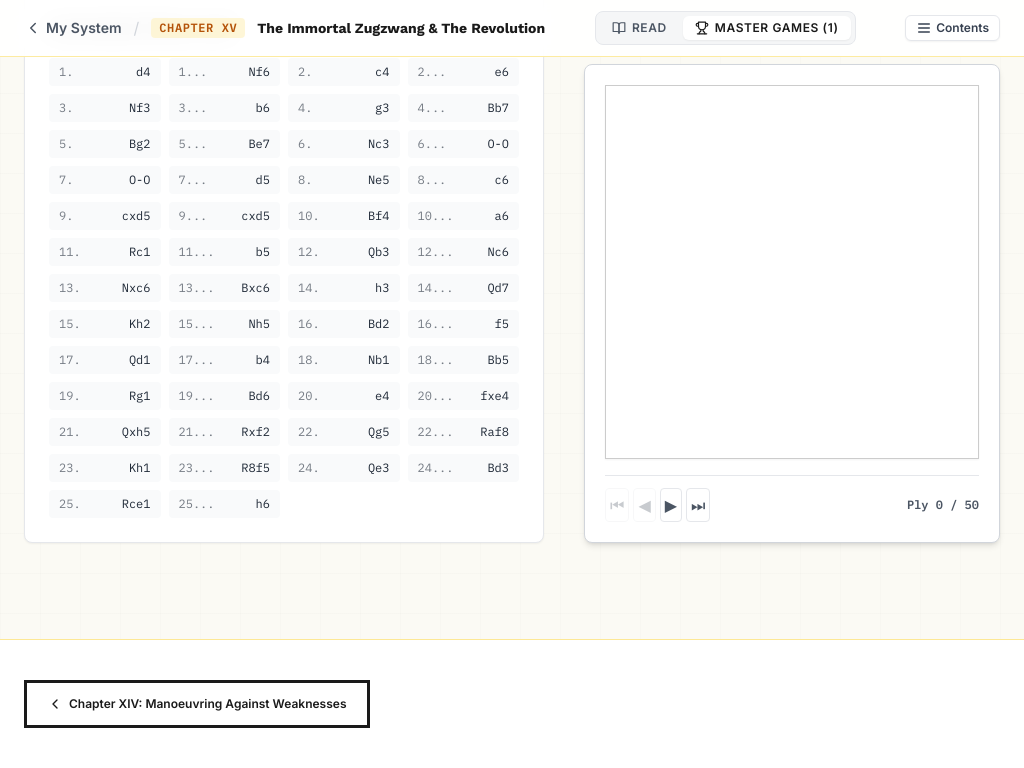
Test: MySystemReader › renders and steps through illustrative master games when present
(page scrolled)
Click on move 50 (h6)
Step 1. Click the button "25... h6" → (224, 504), box x1=168 y1=490 x2=280 y2=518
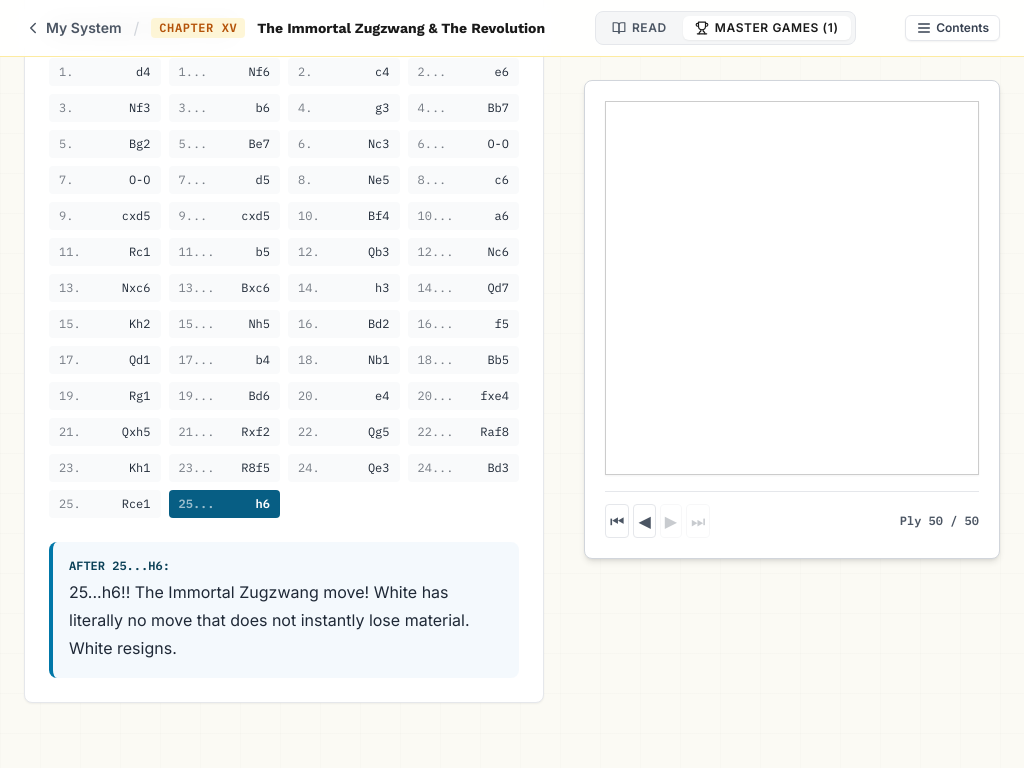
Check: the text "The Immortal Zugzwang move" is shown, box x1=69 y1=582 x2=470 y2=658
